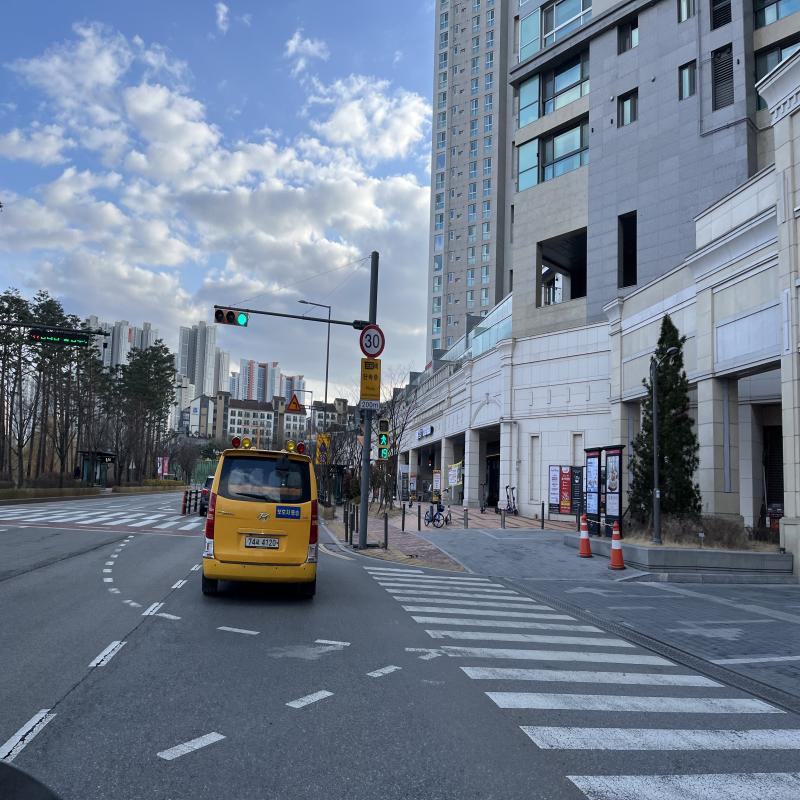green: (236, 313, 247, 325)
